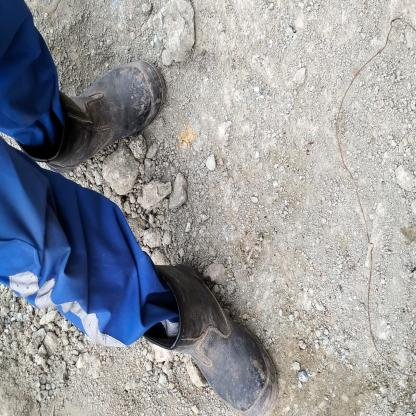bota: (145, 255, 275, 416), (58, 65, 174, 170)
